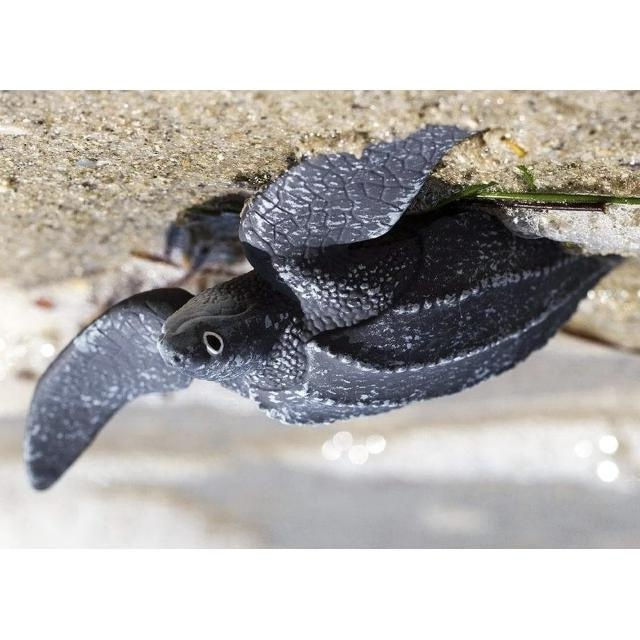turtle: (20, 122, 625, 495)
